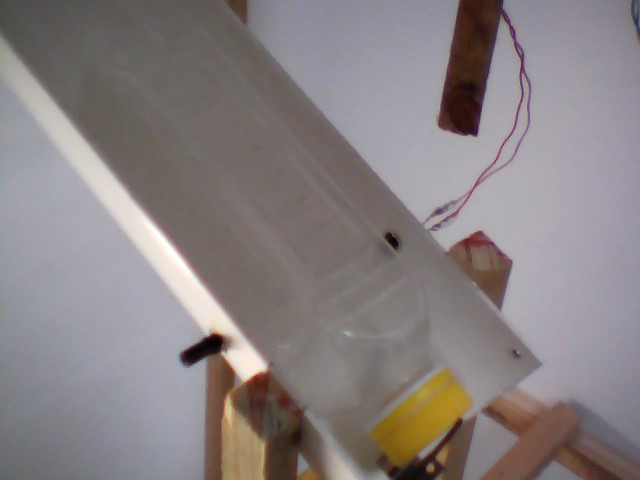plastico: (70, 12, 480, 470)
